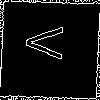V: (25, 25, 73, 61)
